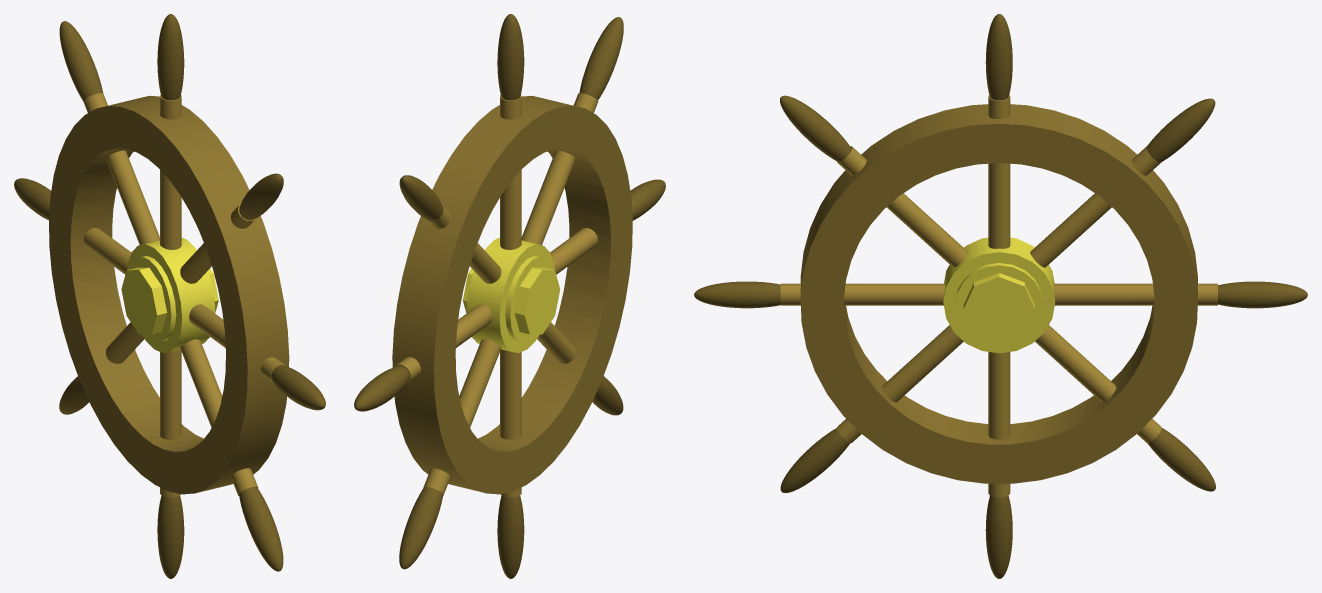
File: kaji 1.fbx
3 views of the same model, side by side, from view 1: azimuth 30°, elevation 25°; view 2: azimuth 150°, elevation 25°; view 3: azimuth 270°, elevation 25° (orthographic).
Visible parts, largest first — view 1: group6_pasted__pSphere1; view 2: group6_pasted__pSphere1; view 3: group6_pasted__pSphere1.
Part boxes in pixels (bbox=[...]): group6_pasted__pSphere1: bbox=[14, 14, 325, 578]; group6_pasted__pSphere1: bbox=[354, 14, 665, 578]; group6_pasted__pSphere1: bbox=[694, 14, 1307, 578].
Size of the model in its own units: 2 by 17.45 by 17.2.
